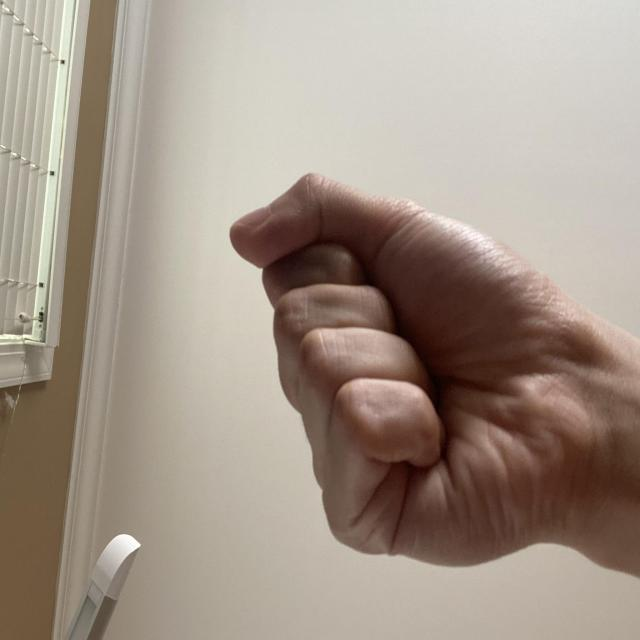A: (46, 298, 352, 640)
